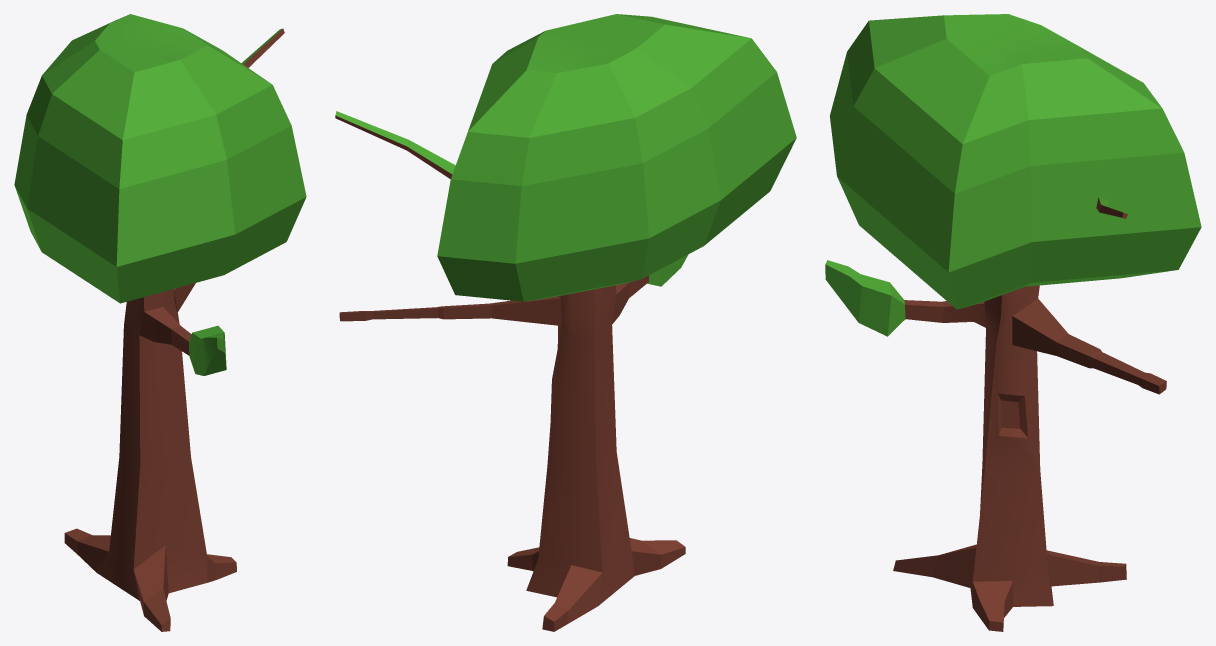
Rendered from tree.fbx.
3 renders of one model, left to right at view 1: azimuth 30°, elevation 25°; view 2: azimuth 150°, elevation 25°; view 3: azimuth 270°, elevation 25°, orthographic.
Visible parts, largest first — view 1: tree; view 2: tree; view 3: tree.
Part boxes in pixels (box(x1,y1,x2,y2)): tree: box(14, 14, 306, 631); tree: box(335, 14, 796, 631); tree: box(825, 14, 1201, 631).
Bounding box in the file's own units: 4.61 × 7.53 × 4.63.
